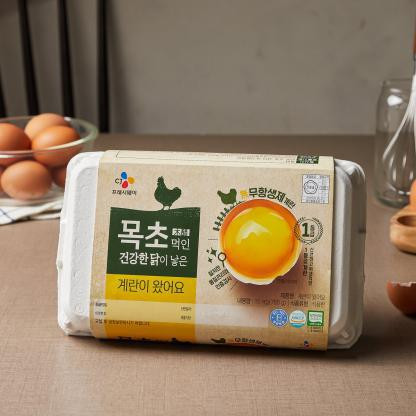egg: (6, 154, 62, 206), (0, 108, 44, 169), (30, 123, 82, 162)
